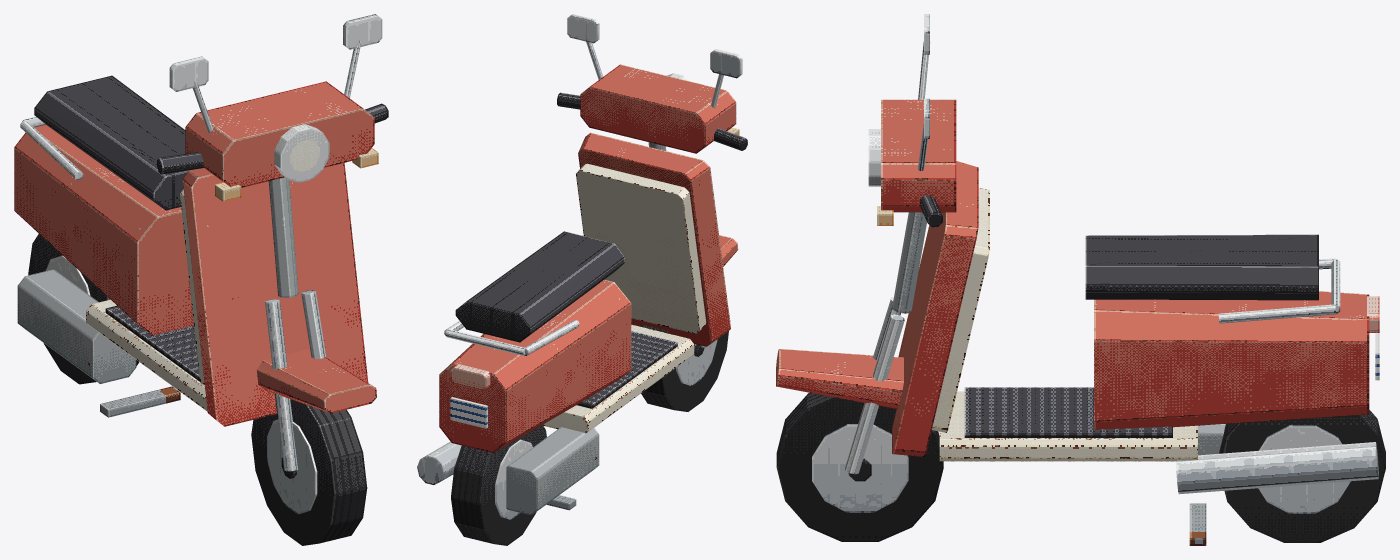
File: scooter.glb
The picture shows the model from 3 angles, left to right: view 1: azimuth 30°, elevation 25°; view 2: azimuth 150°, elevation 25°; view 3: azimuth 270°, elevation 25°; orthographic projection. The views are drawn at different scales.
Parts seen in each view (by area): view 1: scooter; view 2: scooter; view 3: scooter.
Boxes of the visible parts, x1=… form: scooter: x1=14, y1=14, x2=388, y2=545; scooter: x1=417, y1=14, x2=747, y2=545; scooter: x1=776, y1=14, x2=1385, y2=545.
Bounding box in the file's own units: 0.6267 × 1.24 × 1.46.
Materials: 1 (1 with a texture image).
